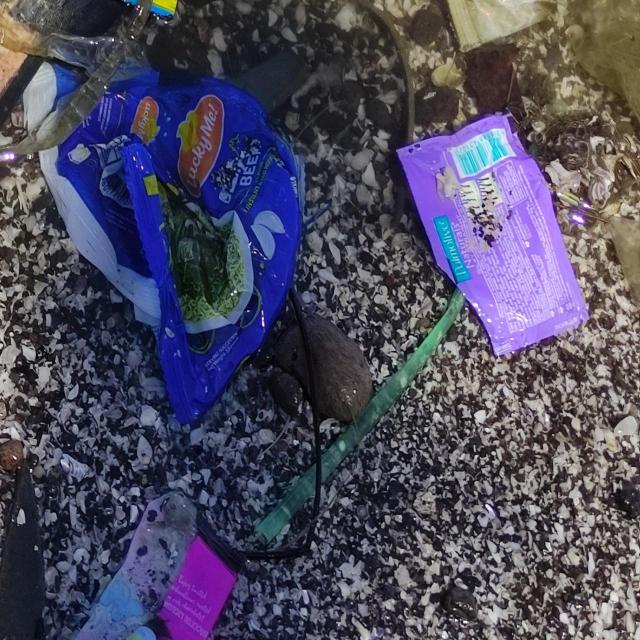plastic_waste: (34, 61, 304, 432), (390, 112, 588, 360)
